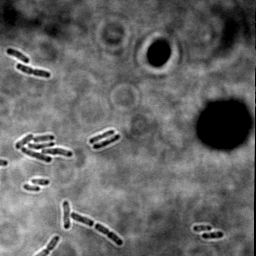Dividing: (93, 221, 124, 247), (15, 64, 52, 79), (88, 128, 117, 145)
Microcolony: (14, 133, 73, 164)
Rod: (92, 133, 122, 151), (5, 45, 30, 65), (69, 212, 95, 228), (60, 200, 72, 230), (201, 230, 225, 241), (191, 223, 214, 233), (22, 183, 40, 194), (29, 177, 51, 186)
